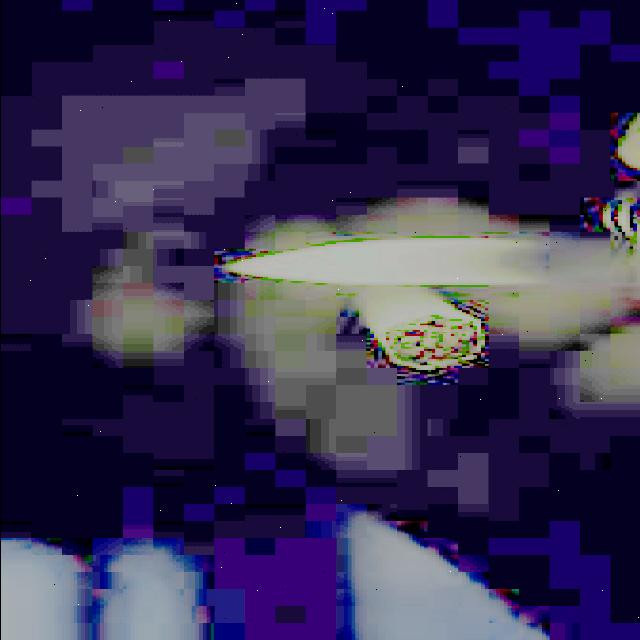api: (218, 227, 534, 299)
